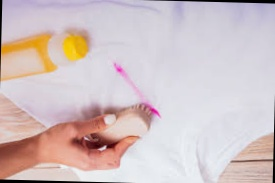lipstick: (112, 60, 129, 79), (146, 101, 160, 119), (133, 86, 141, 97)
